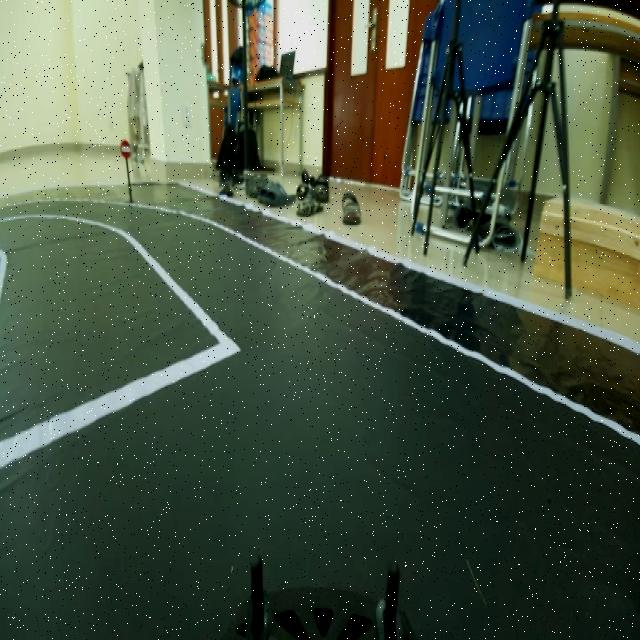no_entry: (115, 129, 134, 164)
